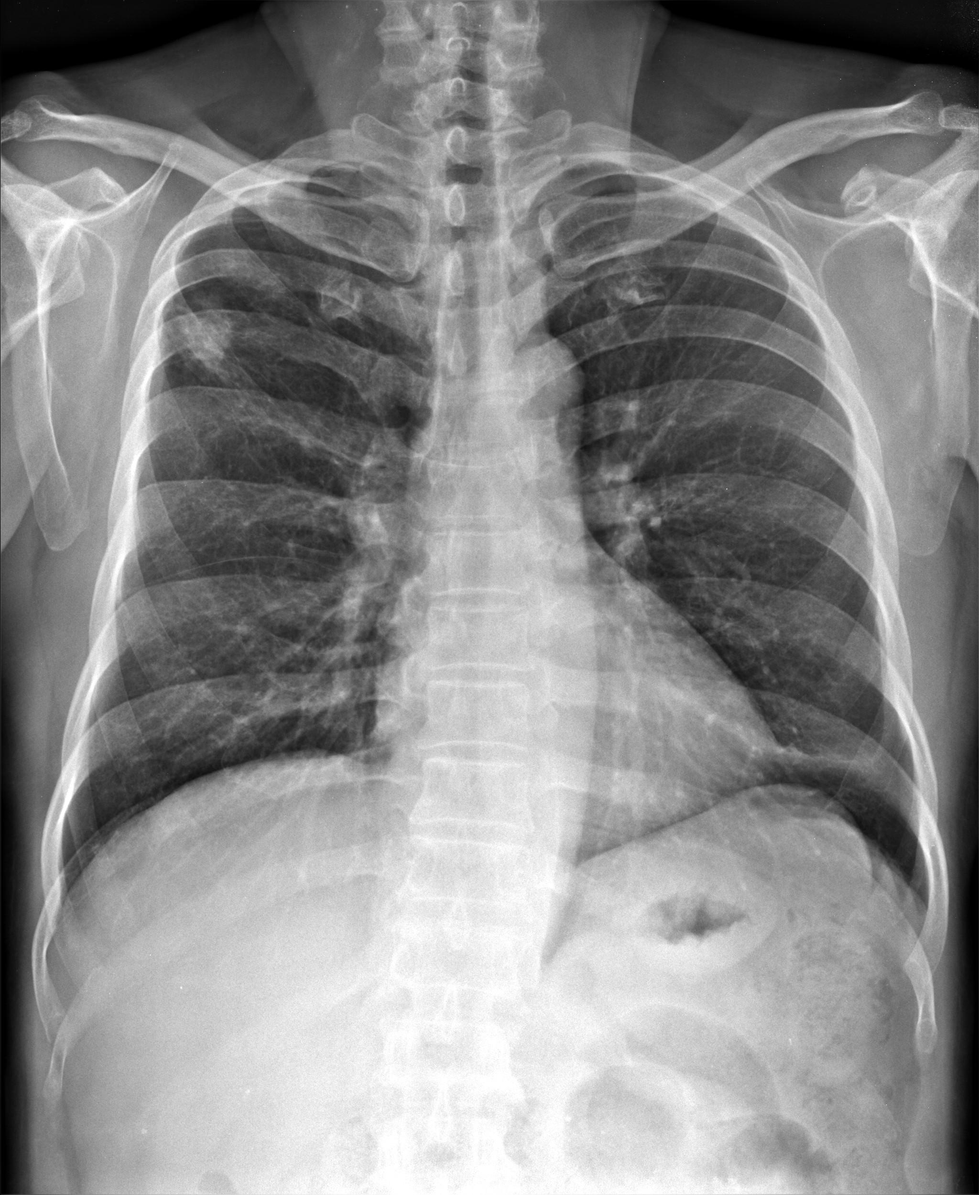Aortic enlargement: (477, 334, 586, 445)
Pleural thickening: (577, 176, 680, 196)
Pulmonary fibrosis: (754, 744, 873, 769)
